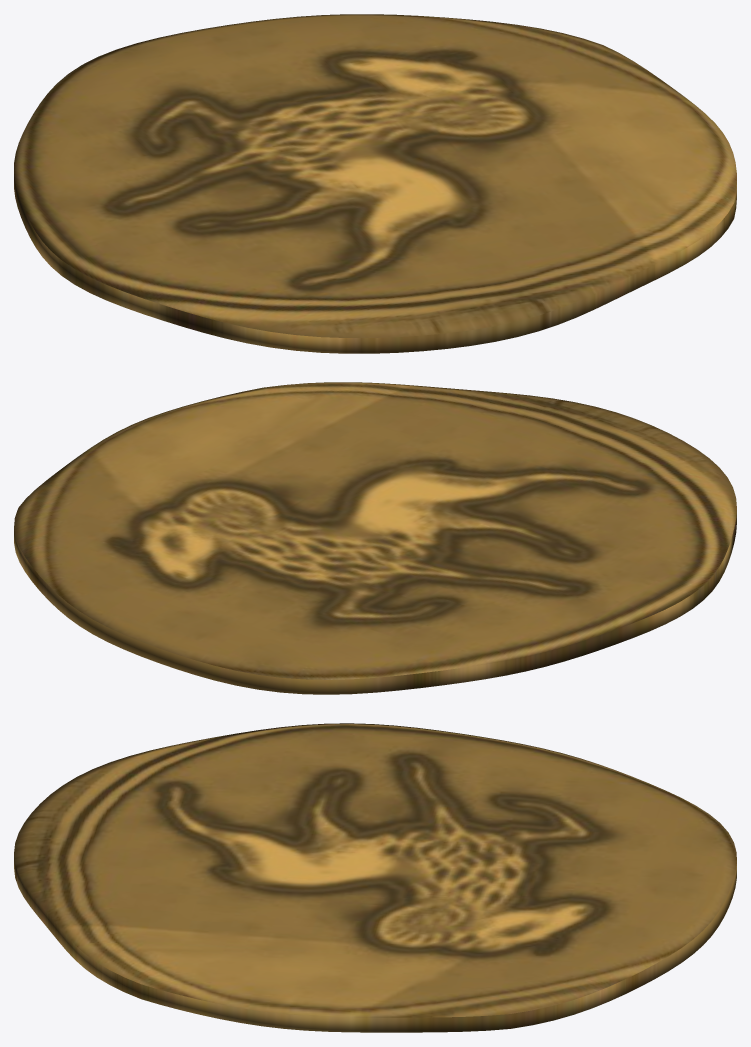
The model's file is zodiac_01.glb.
The picture shows the model from 3 angles, top to bottom: view 1: azimuth 30°, elevation 25°; view 2: azimuth 150°, elevation 25°; view 3: azimuth 270°, elevation 25°; orthographic projection. The views are drawn at different scales.
Parts seen in each view (by area): view 1: zodiac_01; view 2: zodiac_01; view 3: zodiac_01.
Part boxes in pixels (x1=…): zodiac_01: x1=14, y1=14, x2=736, y2=353; zodiac_01: x1=14, y1=382, x2=736, y2=694; zodiac_01: x1=14, y1=723, x2=736, y2=1032.
Size of the model in its own units: 0.9334 by 0.0401 by 0.9688.
Materials: 1 (1 with a texture image).
